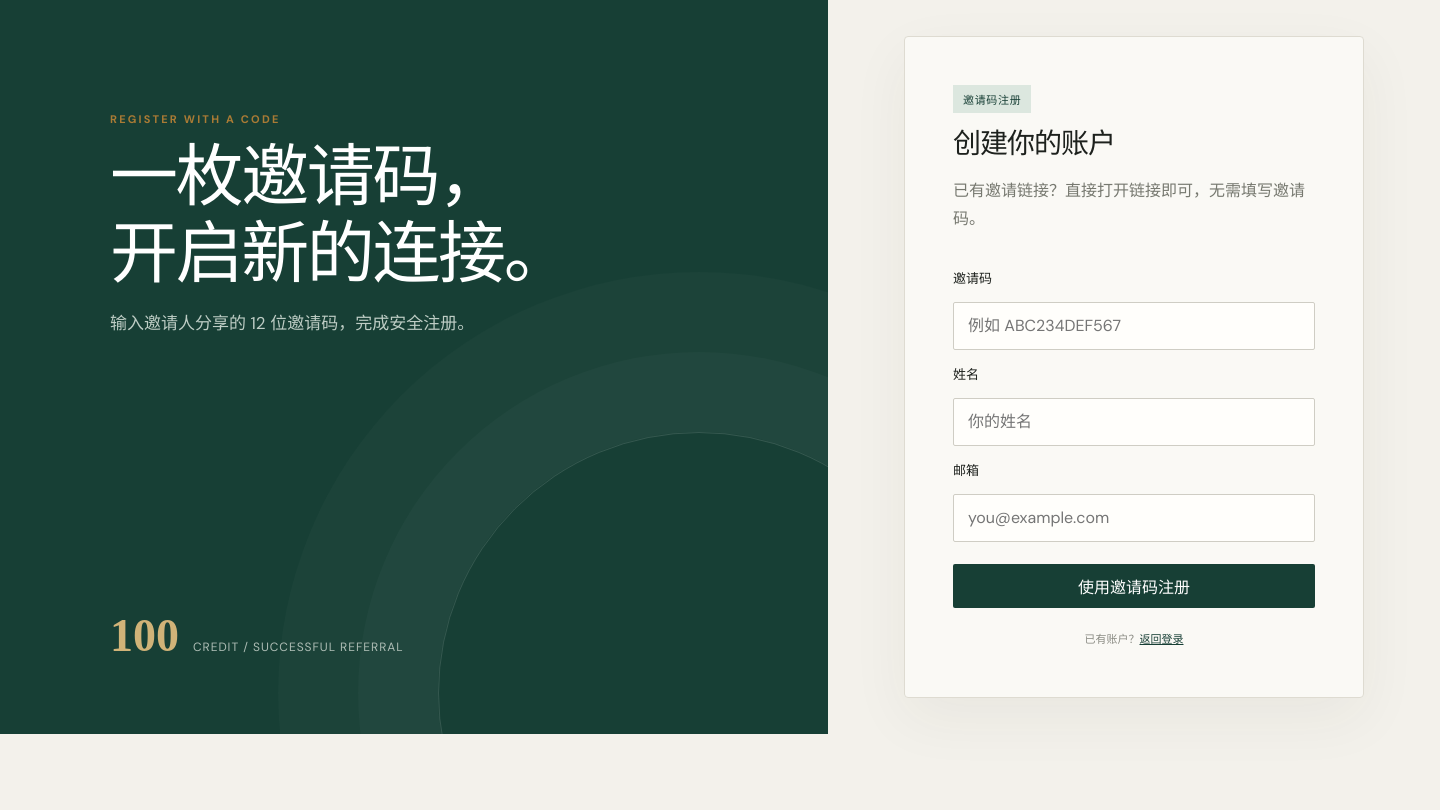
Test: validates invitation code locally and maps a missing code response
The width and height of the screenshot is (1440, 810).
Step 1. Click the button "使用邀请码注册" → (1134, 586), box [953,564,1315,608]
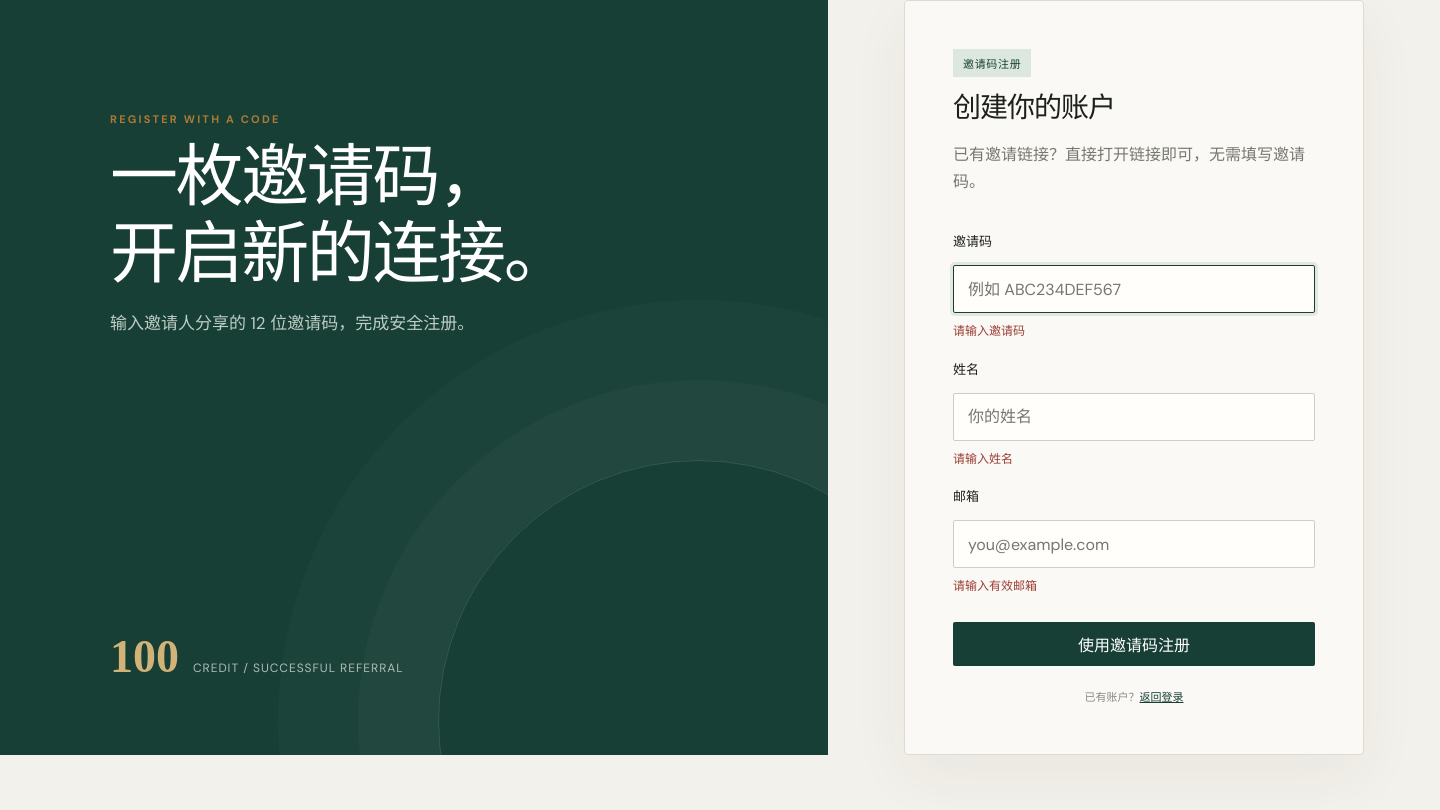
Expected: the text "请输入邀请码" is shown, [953,323,1025,339]
Step 2. Type "ABC234DEF567" into the field labelled "邀请码" → (1134, 289), box [953,265,1315,313]
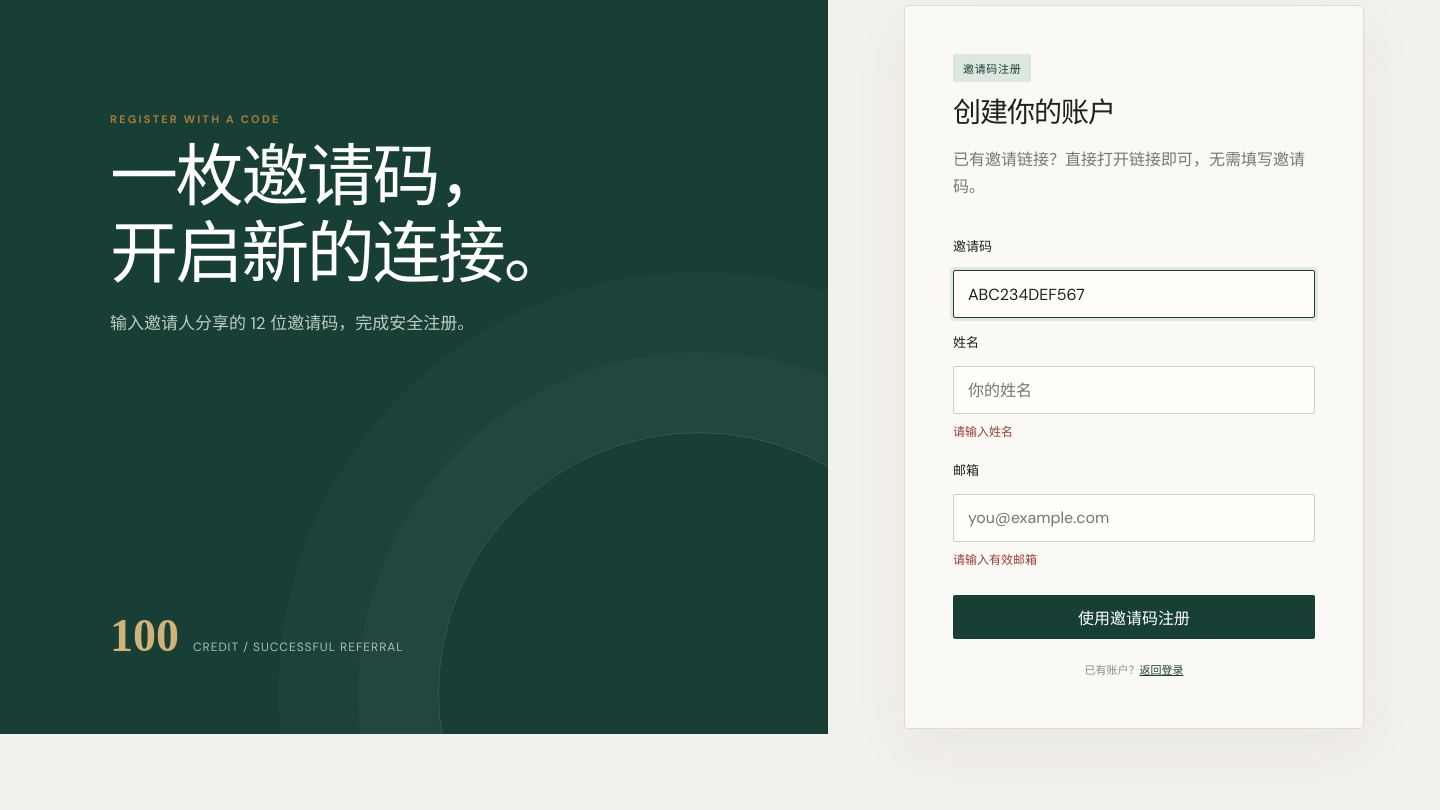
Step 3. Type "Bob" into the field labelled "姓名" → (1134, 390), box [953,366,1315,414]
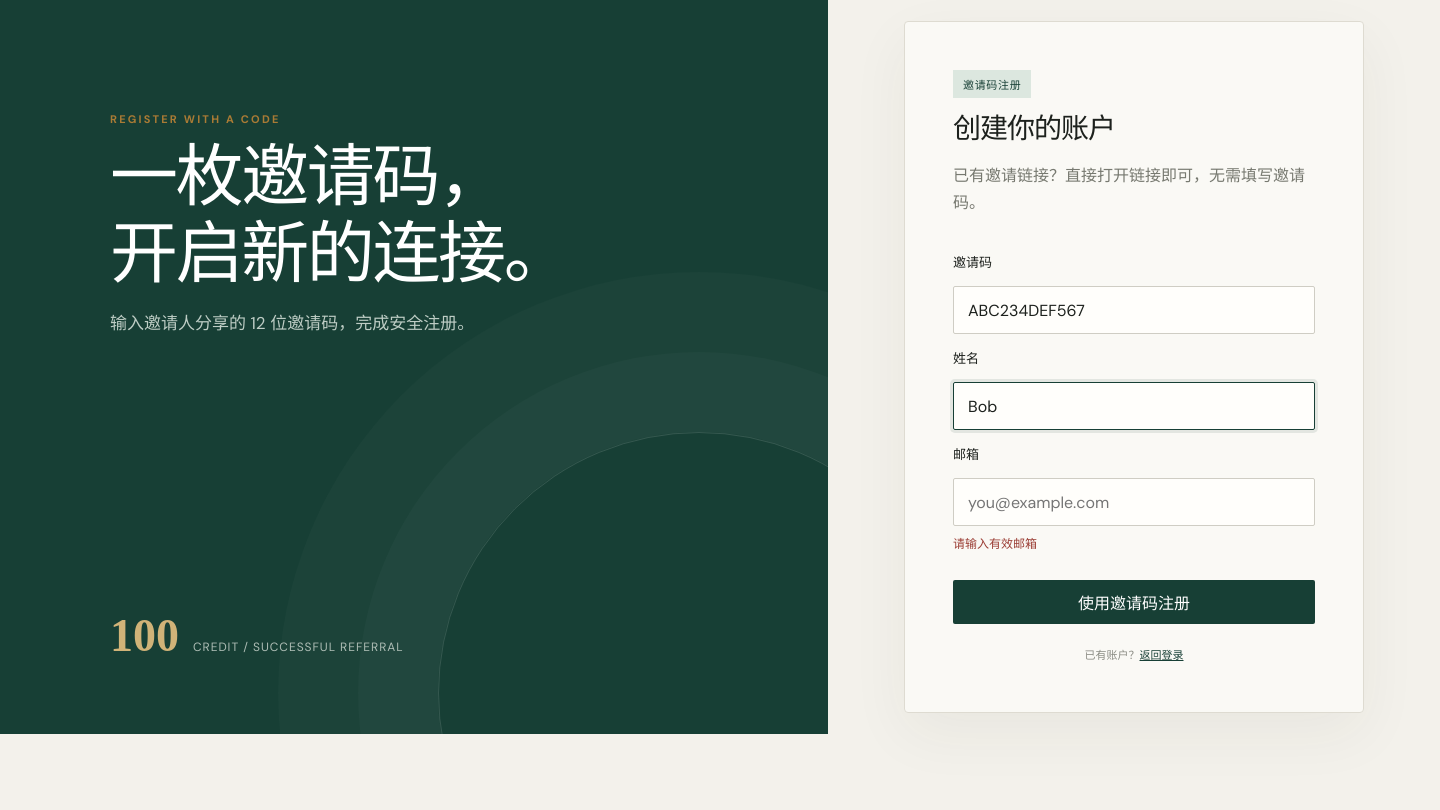
Step 4. Type "bob@example.com" into the field labelled "邮箱" → (1134, 502), box [953,478,1315,526]
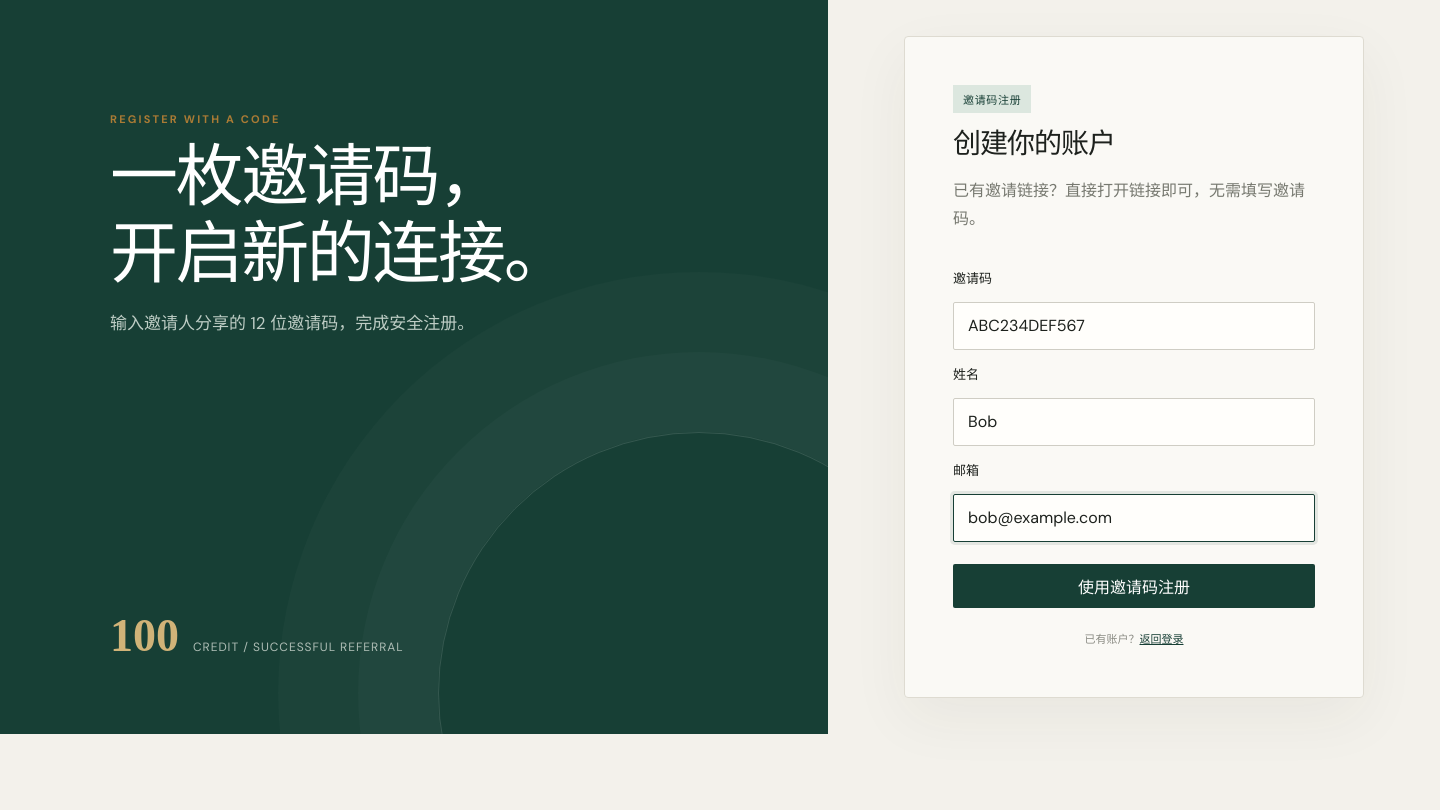
Step 5. Click the button "使用邀请码注册" → (1134, 586), box [953,564,1315,608]
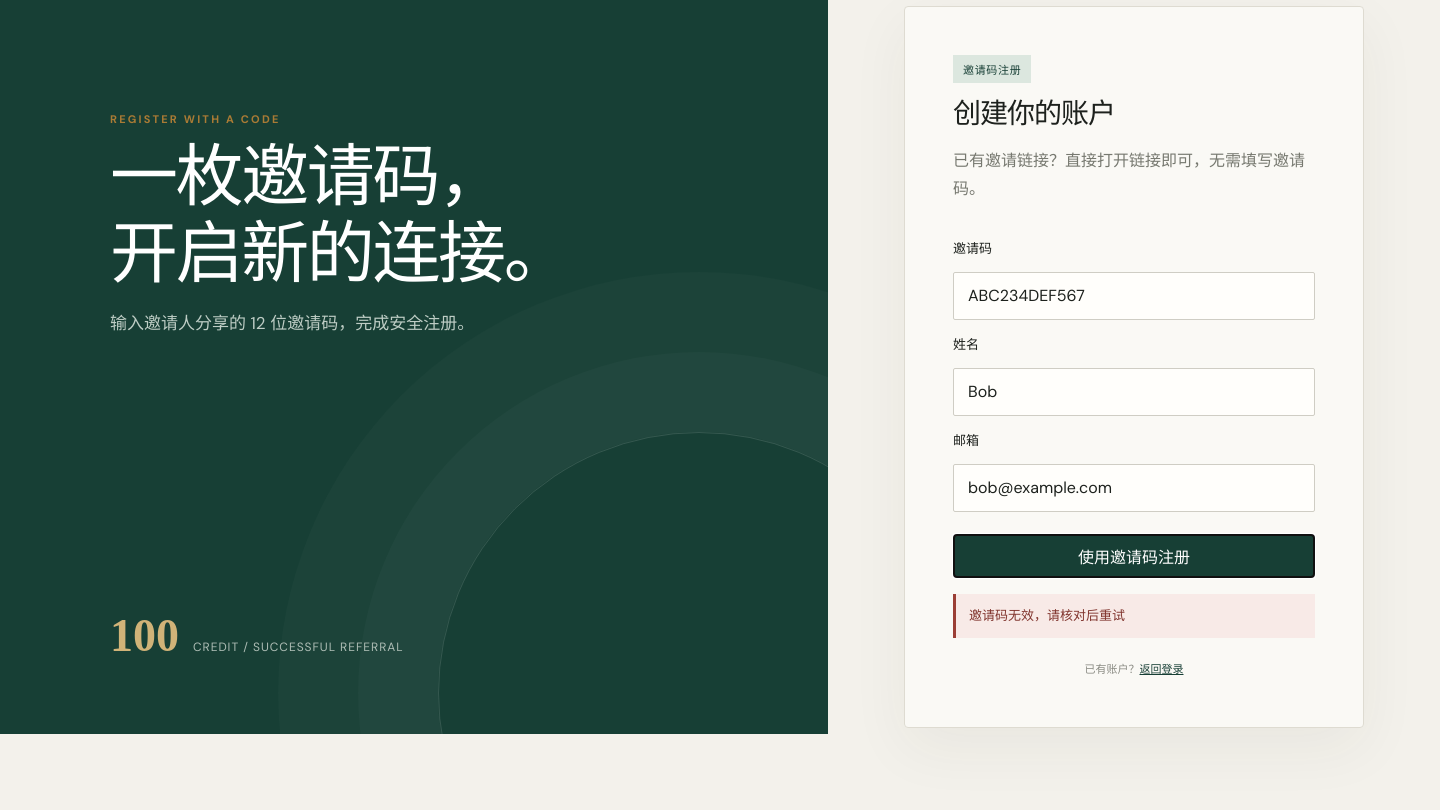
Expected: the message reads "邀请码无效，请核对后重试", [969,607,1125,624]
